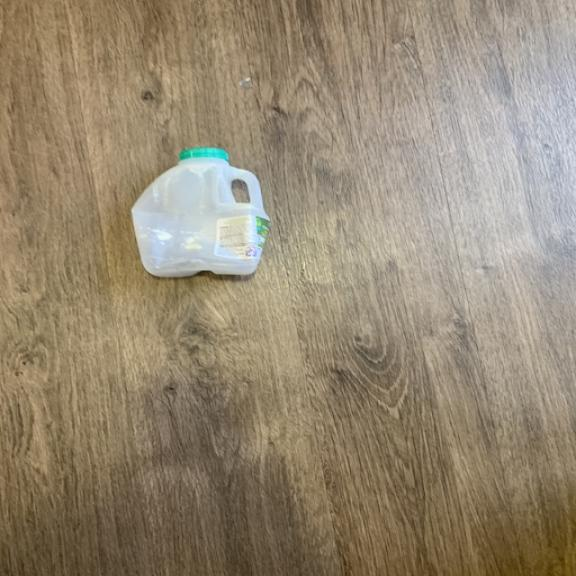Plastik: (125, 141, 274, 287)
